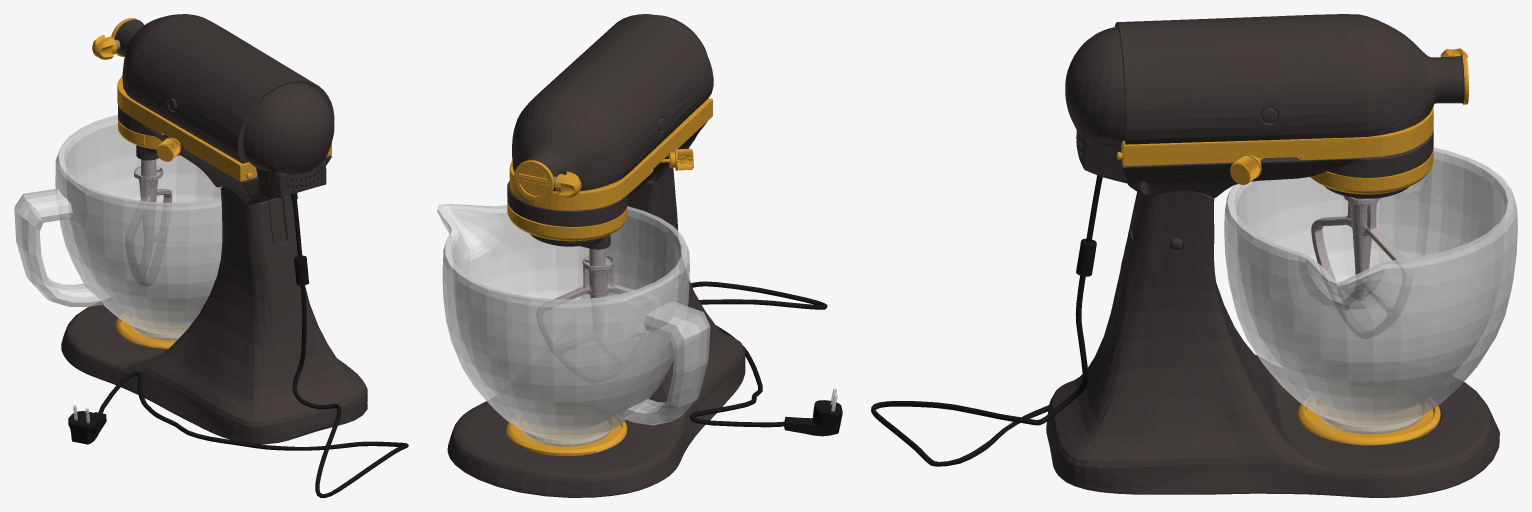
Rendered from mixer_brown.glb.
The picture shows the model from 3 angles, left to right: view 1: azimuth 30°, elevation 25°; view 2: azimuth 150°, elevation 25°; view 3: azimuth 270°, elevation 25°; orthographic projection. The views are drawn at different scales.
Parts seen in each view (by area): view 1: 1b54a453-1838-45e0-a485-bb99bb005a1c; view 2: 1b54a453-1838-45e0-a485-bb99bb005a1c; view 3: 1b54a453-1838-45e0-a485-bb99bb005a1c.
Part boxes in pixels (<box>): 1b54a453-1838-45e0-a485-bb99bb005a1c: <box>14,14,408,497</box>; 1b54a453-1838-45e0-a485-bb99bb005a1c: <box>437,14,842,497</box>; 1b54a453-1838-45e0-a485-bb99bb005a1c: <box>871,14,1517,497</box>.
Size of the model in its own units: 0.1273 by 0.1288 by 0.1801.
